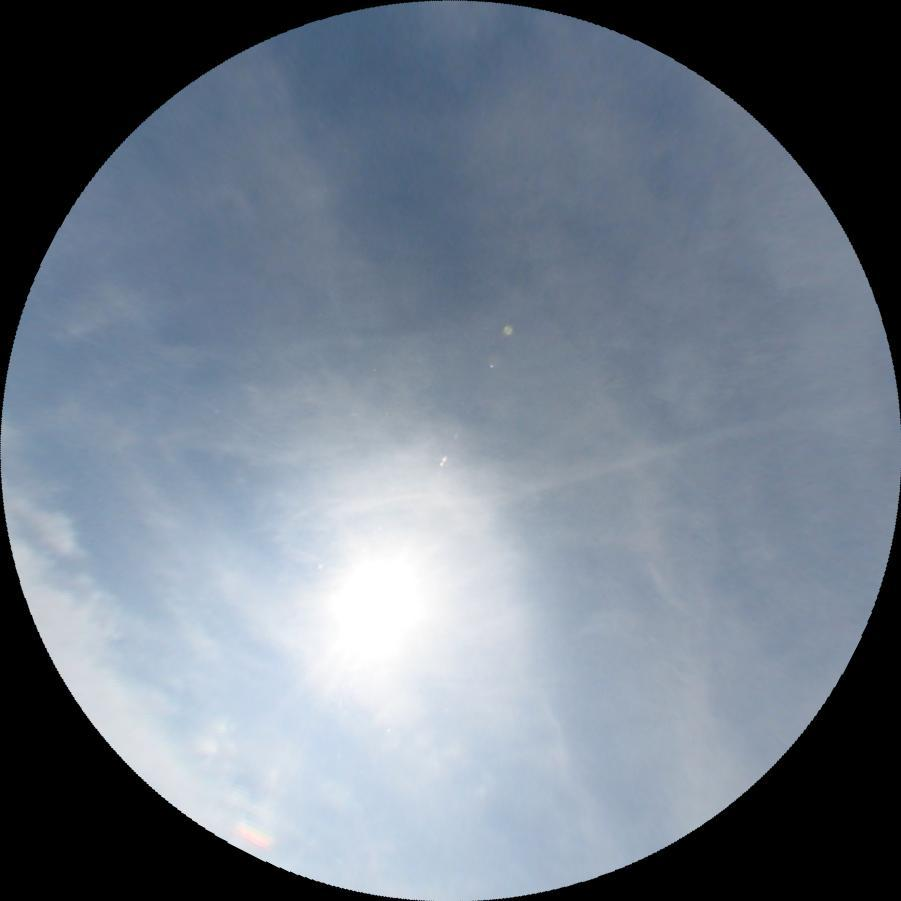contrail veryold: (331, 402, 840, 549)
sun: (306, 538, 442, 681)
